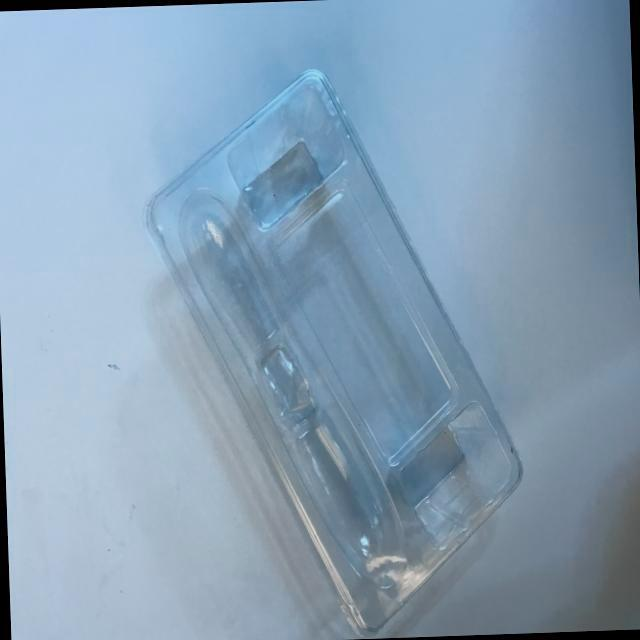plastic: (120, 22, 527, 640)
